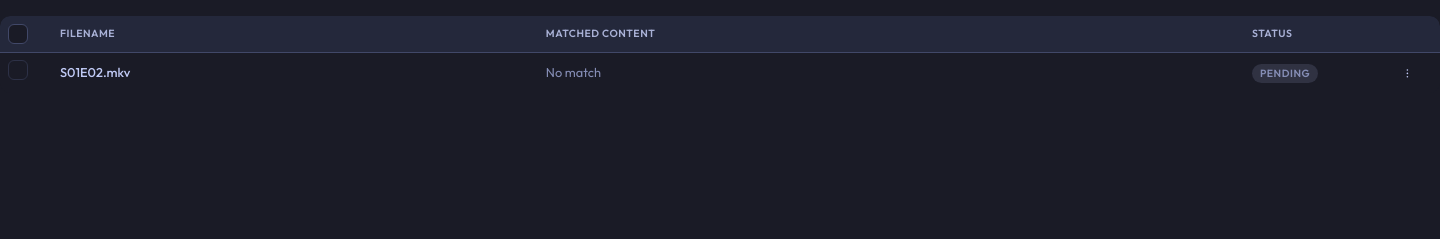
Test: CandidateLeafTable › RowMenu_OffersMatchButNoImport_WhenTheFileHasNoMatch
Click the button named "Actions for S01E02.mkv".
click(1407, 73)  # box [1392, 57, 1423, 89]
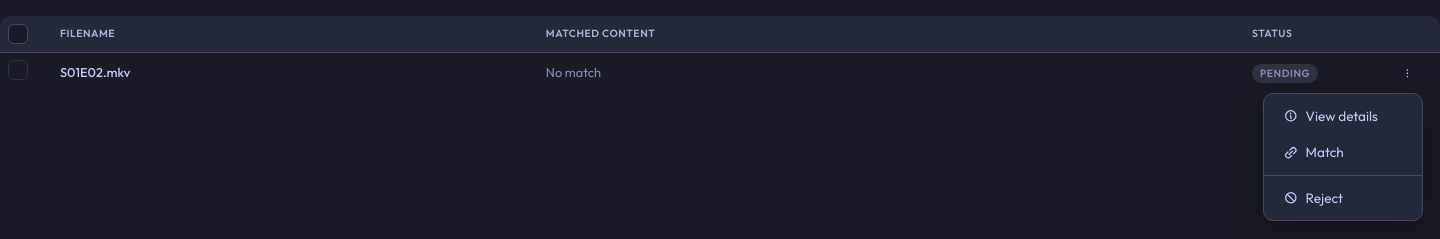
Expected: the element with test id "candidate-leaf-no-match" reads "No match", [546, 64, 601, 80]
Expected: the menu items read "View details", "Match", "Reject", in this order, [1284, 107, 1378, 125]; [1284, 143, 1344, 161]; [1284, 189, 1343, 207]
